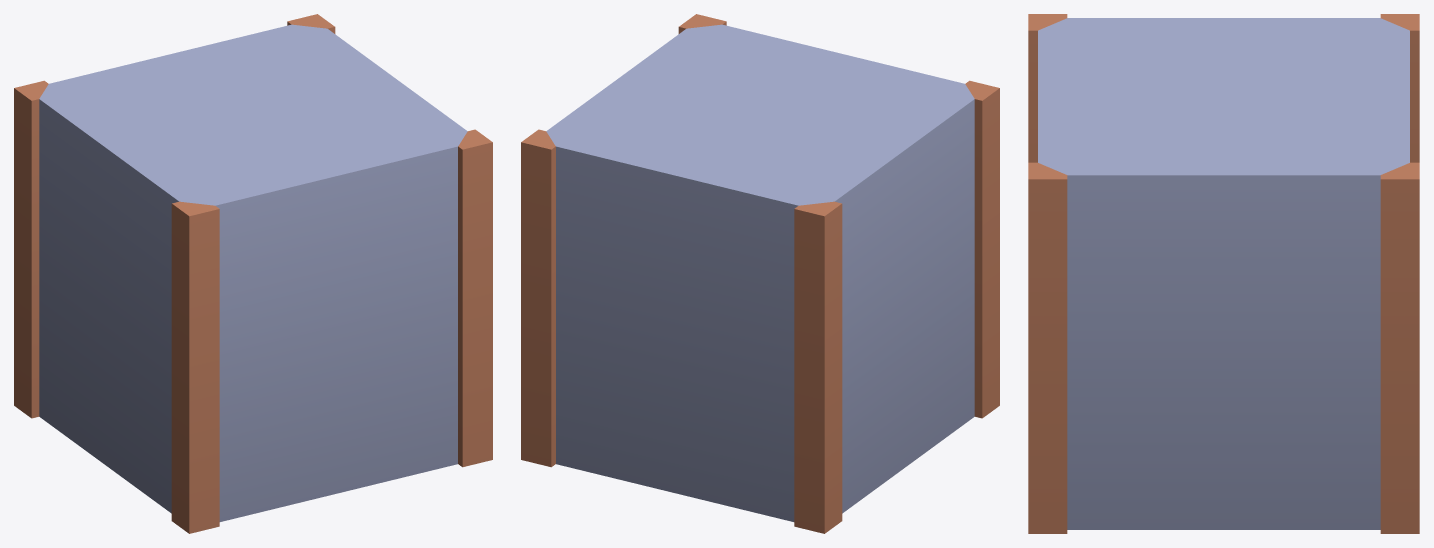
The model's file is wall-kn-wall-block.glb.
3 renders of one model, left to right at view 1: azimuth 30°, elevation 25°; view 2: azimuth 150°, elevation 25°; view 3: azimuth 270°, elevation 25°, orthographic. The views are drawn at different scales.
Parts seen in each view (by area): view 1: wall-block; view 2: wall-block; view 3: wall-block.
Part boxes in pixels (left/top/right/bottom): wall-block: left=14, top=14, right=492, bottom=533; wall-block: left=521, top=14, right=999, bottom=533; wall-block: left=1028, top=14, right=1419, bottom=533.
Bounding box in the file's own units: 3 × 3 × 3.
Materials: 1 (1 with a texture image).
